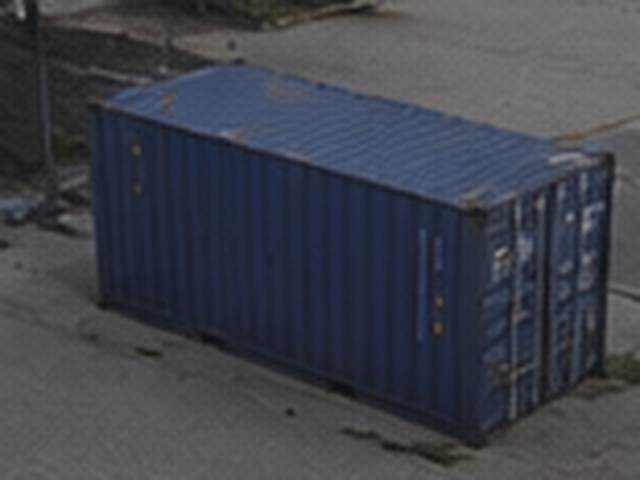male: (93, 66, 612, 441)
